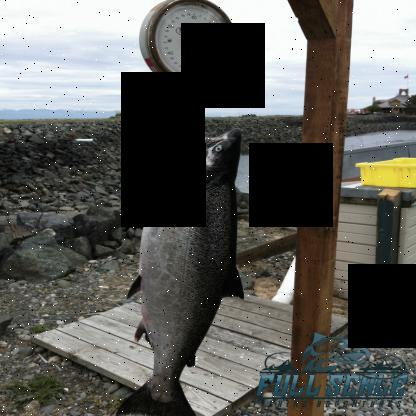fish: (116, 112, 244, 416)
